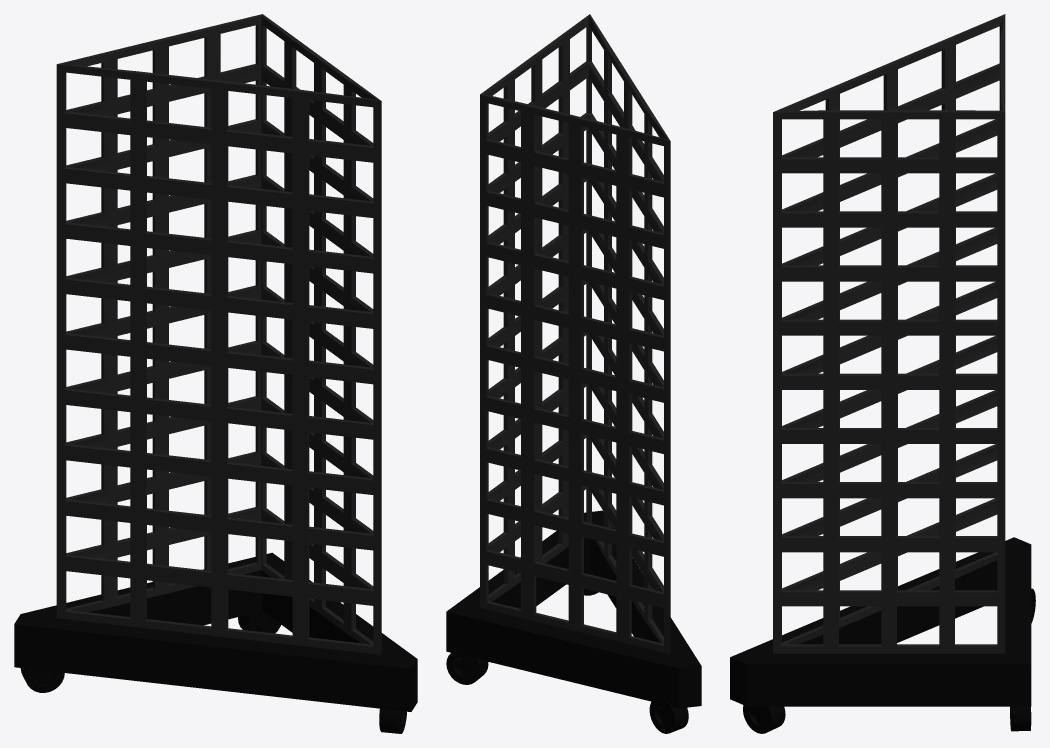
Rendered from Shelf_03_Medium.glb.
3 views of the same model, side by side, from view 1: azimuth 30°, elevation 25°; view 2: azimuth 150°, elevation 25°; view 3: azimuth 270°, elevation 25° (orthographic). The views are drawn at different scales.
Visible parts, largest first — view 1: Mesh_Shelf_03_Medium; view 2: Mesh_Shelf_03_Medium; view 3: Mesh_Shelf_03_Medium.
Boxes of the visible parts, x1,y1,x2,y2 form: Mesh_Shelf_03_Medium: (14, 14, 417, 733); Mesh_Shelf_03_Medium: (446, 14, 701, 733); Mesh_Shelf_03_Medium: (730, 14, 1035, 733).
Size of the model in its own units: 0.6545 by 1.46 by 0.6581.
1 material, 1 textured.
